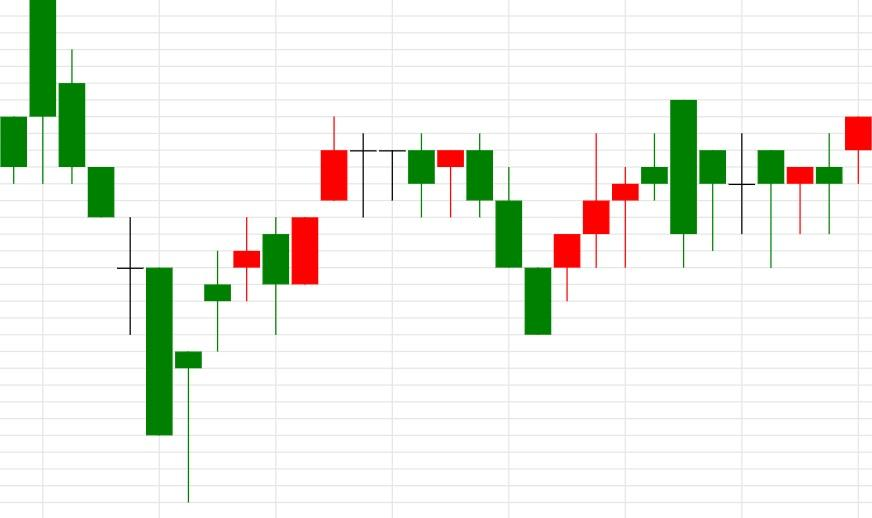hammer_rise: (28, 0, 204, 504)
three_black_crows_fall: (261, 116, 552, 336)
three_white_soldiers_rise: (408, 132, 640, 336)
